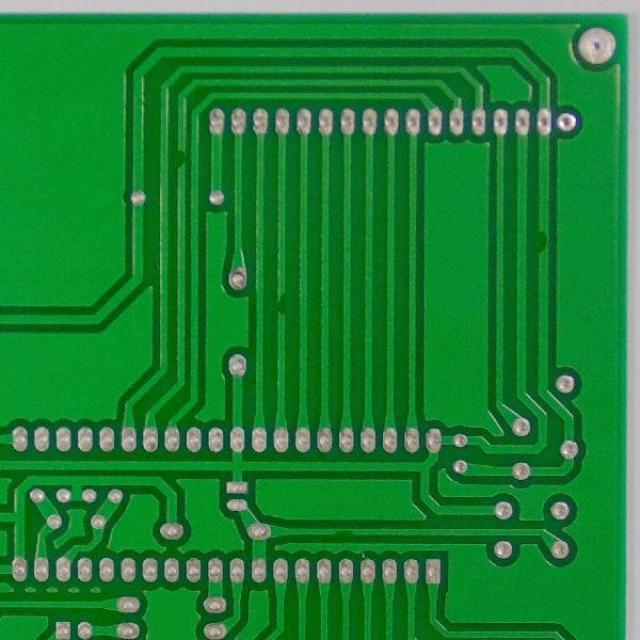MouseBite: (534, 222, 552, 262), (272, 284, 289, 325), (174, 141, 190, 174), (328, 524, 358, 540)
